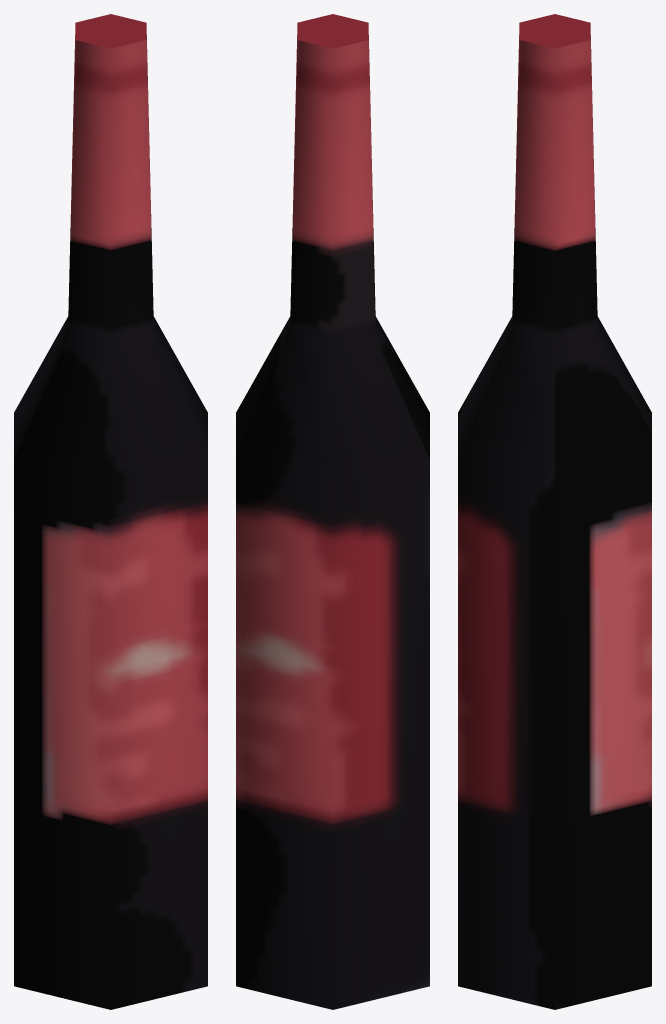
Rendered from Ware_Alkohol.fbx.
3 views of the same model, side by side, from view 1: azimuth 30°, elevation 25°; view 2: azimuth 150°, elevation 25°; view 3: azimuth 270°, elevation 25° (orthographic).
Visible parts, largest first — view 1: alkohol_lang; view 2: alkohol_lang; view 3: alkohol_lang.
Boxes of the visible parts, <box> form: alkohol_lang: <box>14,14,207,1009</box>; alkohol_lang: <box>236,14,429,1009</box>; alkohol_lang: <box>458,14,651,1009</box>.
Size of the model in its own units: 10.74 by 49.29 by 9.3.
